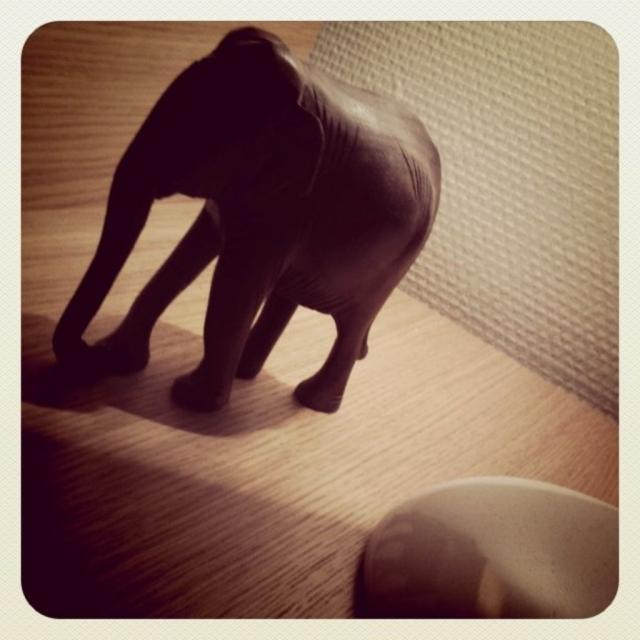Elephant: (57, 27, 439, 433)
